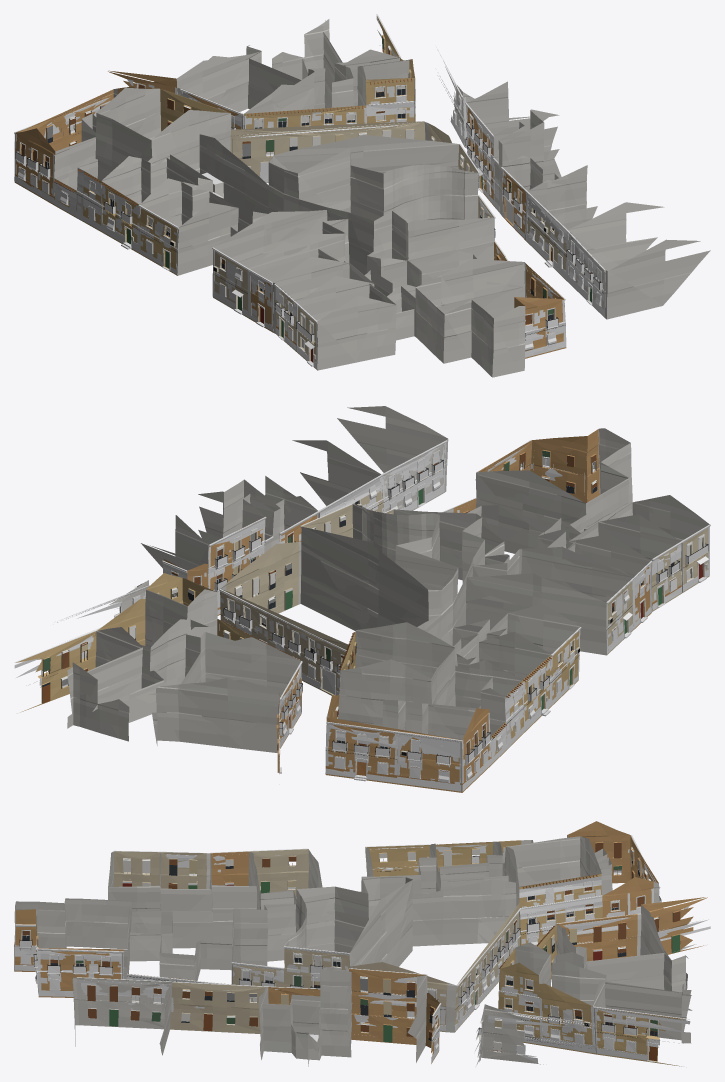
Rendered from zona_-2_-2.glb.
3 views of the same model, one above another, from view 1: azimuth 30°, elevation 25°; view 2: azimuth 150°, elevation 25°; view 3: azimuth 270°, elevation 25° (orthographic). The views are drawn at different scales.
Parts seen in each view (by area): view 1: z_casas_-2_-2, z_fachadas_-2_-2; view 2: z_casas_-2_-2, z_fachadas_-2_-2; view 3: z_casas_-2_-2, z_fachadas_-2_-2, z_casas_planas_-2_-2.
Part boxes in pixels (<box>): z_casas_-2_-2: <box>14,16,710,377</box>; z_fachadas_-2_-2: <box>14,14,605,369</box>; z_casas_-2_-2: <box>16,406,709,792</box>; z_fachadas_-2_-2: <box>14,440,710,791</box>; z_casas_-2_-2: <box>14,821,707,1066</box>; z_fachadas_-2_-2: <box>15,835,710,1065</box>; z_casas_planas_-2_-2: <box>308,916,504,1066</box>.
Bounding box in the file's own units: 59.63 × 12.03 × 88.35.
